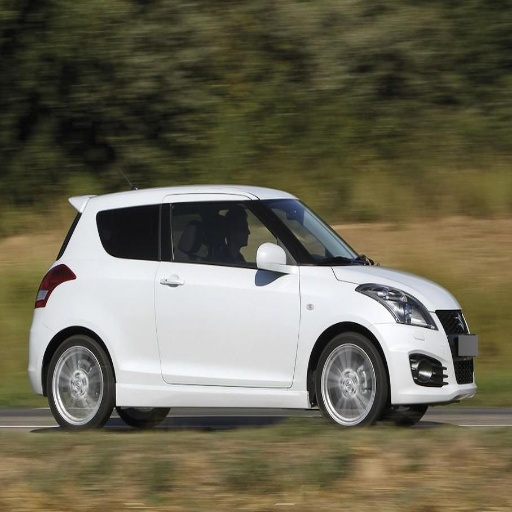back_right_door: (107, 202, 163, 372)
front_bumper: (383, 309, 462, 401)
front_right_door: (156, 201, 301, 383)
front_right_light: (364, 288, 435, 327)
